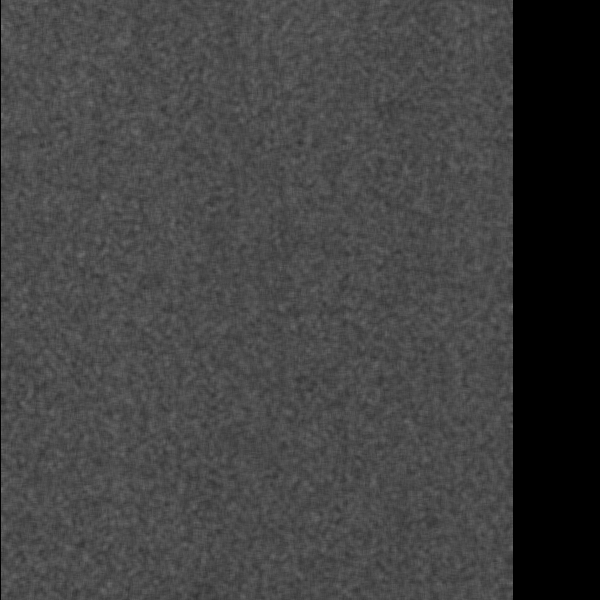spark: (290, 467, 321, 580), (41, 573, 127, 600), (469, 425, 509, 474), (393, 208, 419, 246)
